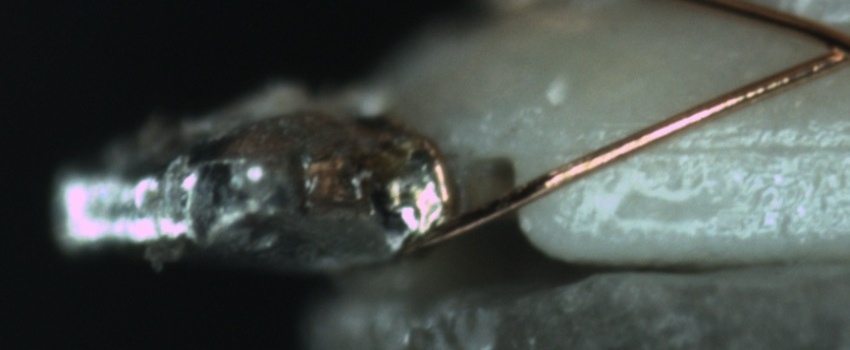CL: (797, 18, 850, 75)
DL: (610, 112, 846, 181)
TE: (384, 116, 454, 221)
